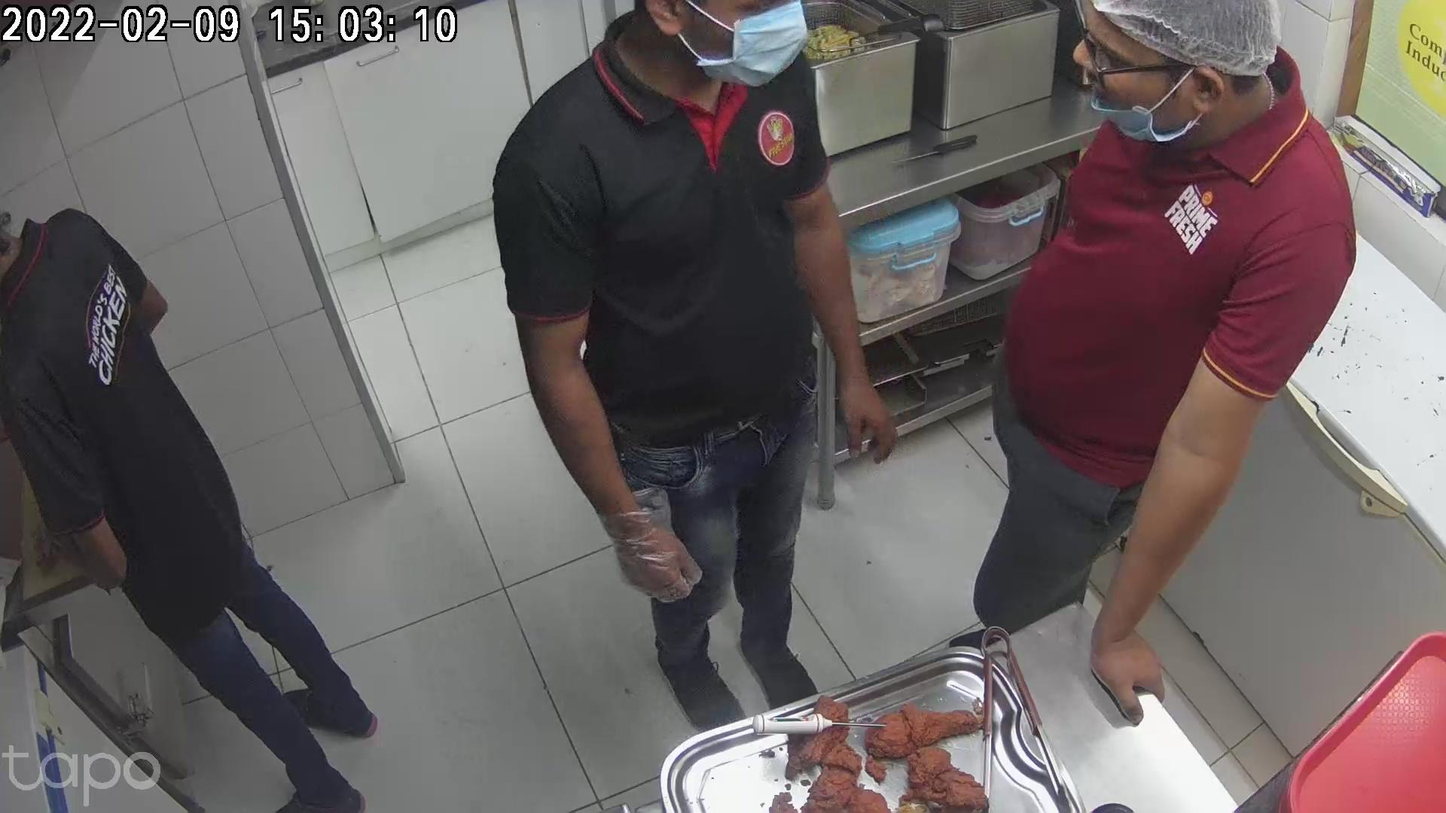no_gloves: (690, 322, 819, 398)
